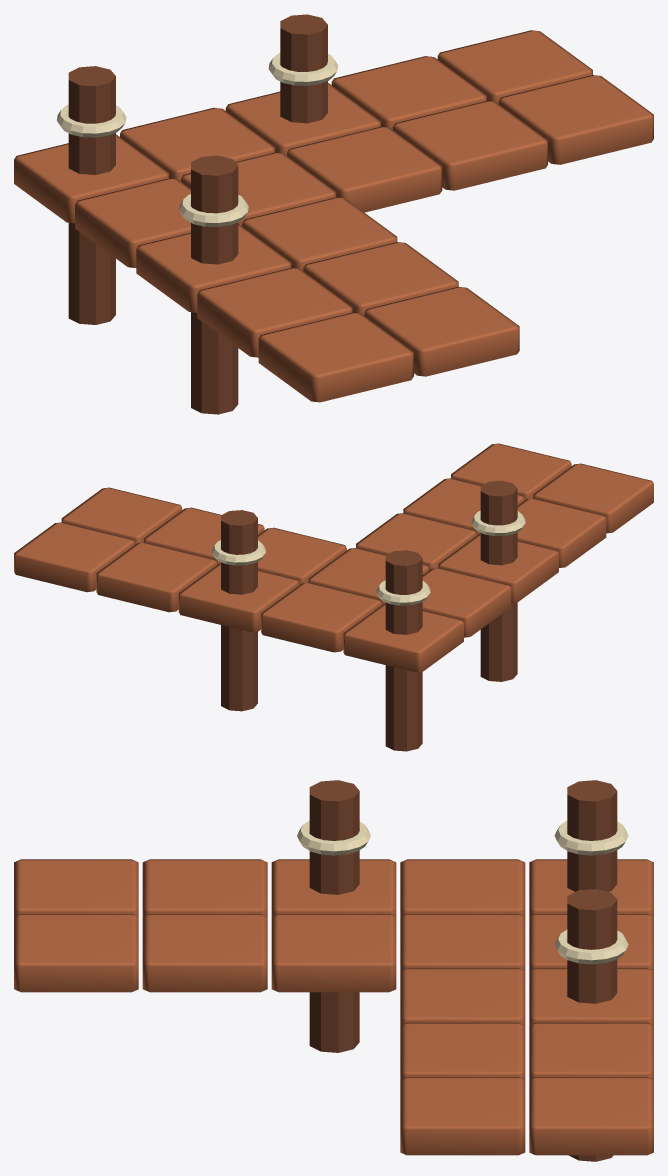
File: dock_corner.glb
The picture shows the model from 3 angles, top to bottom: view 1: azimuth 30°, elevation 25°; view 2: azimuth 150°, elevation 25°; view 3: azimuth 270°, elevation 25°; orthographic projection. The views are drawn at different scales.
Visible parts, largest first — view 1: Pier plank.019, Pier plank.024, Pier plank.031, Pier plank.033, Pier plank.029, Dock piling.003, Dock piling.004, Pier plank.020, Pier plank.022, Pier plank.025, Pier plank.026, Pier plank.034 (+10 smaller); view 2: Dock piling.003, Dock piling.005, Pier plank.032, Pier plank.028, Pier plank.034, Dock piling.004, Pier plank.023, Pier plank.019, Pier plank.030, Pier plank.022, Pier plank.020, Pier plank.033 (+10 smaller); view 3: Pier plank.033, Pier plank.025, Pier plank.026, Pier plank.024, Pier plank.034, Dock piling.004, Pier plank.031, Pier plank.032, Pier plank.020, Pier plank.022, Pier plank.029, Pier plank.027 (+10 smaller).
Boxes of the visible parts, x1,y1,x2,y2 form: Pier plank.019: (258,312,413,402); Pier plank.024: (364,286,519,376); Pier plank.031: (392,101,547,190); Pier plank.033: (498,75,653,164); Pier plank.029: (287,126,442,212); Dock piling.003: (68,66,115,324); Dock piling.004: (191,155,238,414); Pier plank.020: (197,268,352,357); Pier plank.022: (75,178,190,267); Pier plank.025: (303,242,458,315); Pier plank.026: (242,197,397,270); Pier plank.034: (437,30,592,103); Dock piling.003: (385,550,422,751); Dock piling.005: (221,510,257,711); Pier plank.032: (96,542,216,612); Pier plank.028: (261,582,381,652); Pier plank.034: (14,522,134,592); Dock piling.004: (480,480,517,681); Pier plank.023: (343,603,463,672); Pier plank.019: (533,463,653,533); Pier plank.030: (178,563,299,632); Pier plank.022: (422,568,511,637); Pier plank.020: (517,498,606,567); Pier plank.033: (61,487,182,544); Pier plank.033: (400,1077,525,1155); Pier plank.025: (142,914,267,992); Pier plank.026: (271,914,396,992); Pier plank.024: (14,914,138,992); Pier plank.034: (529,1077,653,1155); Dock piling.004: (309,780,359,1052); Pier plank.031: (400,1022,525,1079); Pier plank.032: (529,1022,653,1079); Pier plank.020: (142,859,267,916); Pier plank.022: (400,859,525,916); Pier plank.029: (400,968,525,1025); Pier plank.027: (400,914,525,970).
Bounding box in the file's own units: 3.23 × 1.4 × 3.23.
